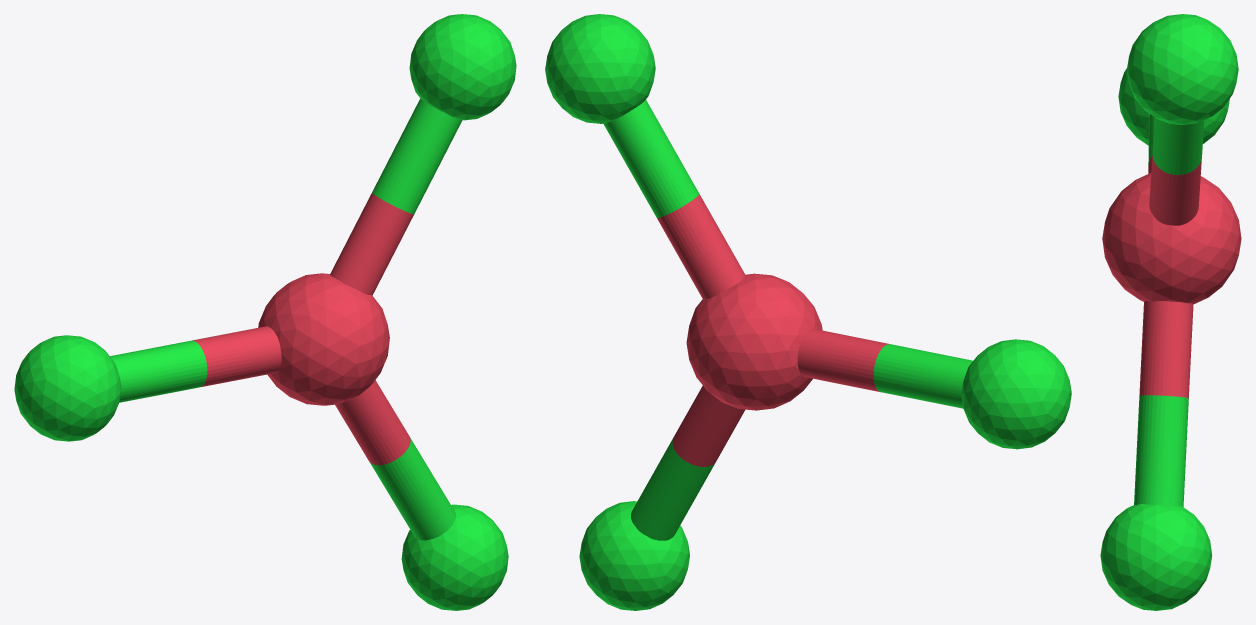
Rendered from BrF3.glb.
The picture shows the model from 3 angles, left to right: view 1: azimuth 30°, elevation 25°; view 2: azimuth 150°, elevation 25°; view 3: azimuth 270°, elevation 25°; orthographic projection. The views are drawn at different scales.
Parts seen in each view (by area): view 1: Shape_IndexedFaceSet, Shape_IndexedFaceSet.002, Shape_IndexedFaceSet.003, Shape_IndexedFaceSet.001, Shape_IndexedFaceSet.006, Shape_IndexedFaceSet.004, Shape_IndexedFaceSet.026, Shape_IndexedFaceSet.009, Shape_IndexedFaceSet.008, Shape_IndexedFaceSet.025; view 2: Shape_IndexedFaceSet, Shape_IndexedFaceSet.002, Shape_IndexedFaceSet.003, Shape_IndexedFaceSet.001, Shape_IndexedFaceSet.006, Shape_IndexedFaceSet.004, Shape_IndexedFaceSet.009, Shape_IndexedFaceSet.026, Shape_IndexedFaceSet.008, Shape_IndexedFaceSet.025; view 3: Shape_IndexedFaceSet, Shape_IndexedFaceSet.003, Shape_IndexedFaceSet.001, Shape_IndexedFaceSet.026, Shape_IndexedFaceSet.025, Shape_IndexedFaceSet.004, Shape_IndexedFaceSet.006, Shape_IndexedFaceSet.002, Shape_IndexedFaceSet.009.
Boxes of the visible parts, x1=… form: Shape_IndexedFaceSet: x1=258, y1=273, x2=389, y2=405; Shape_IndexedFaceSet.002: x1=14, y1=335, x2=121, y2=441; Shape_IndexedFaceSet.003: x1=409, y1=14, x2=516, y2=120; Shape_IndexedFaceSet.001: x1=401, y1=504, x2=508, y2=610; Shape_IndexedFaceSet.006: x1=372, y1=98, x2=462, y2=214; Shape_IndexedFaceSet.004: x1=330, y1=193, x2=413, y2=295; Shape_IndexedFaceSet.026: x1=369, y1=438, x2=455, y2=540; Shape_IndexedFaceSet.009: x1=110, y1=340, x2=207, y2=402; Shape_IndexedFaceSet.008: x1=192, y1=326, x2=281, y2=386; Shape_IndexedFaceSet.025: x1=335, y1=380, x2=410, y2=465; Shape_IndexedFaceSet: x1=686, y1=273, x2=822, y2=410; Shape_IndexedFaceSet.002: x1=961, y1=339, x2=1071, y2=449; Shape_IndexedFaceSet.003: x1=545, y1=14, x2=655, y2=123; Shape_IndexedFaceSet.001: x1=579, y1=501, x2=689, y2=610; Shape_IndexedFaceSet.006: x1=603, y1=100, x2=699, y2=217; Shape_IndexedFaceSet.004: x1=657, y1=194, x2=745, y2=299; Shape_IndexedFaceSet.009: x1=873, y1=344, x2=972, y2=408; Shape_IndexedFaceSet.026: x1=631, y1=439, x2=715, y2=540; Shape_IndexedFaceSet.008: x1=797, y1=329, x2=888, y2=392; Shape_IndexedFaceSet.025: x1=672, y1=385, x2=744, y2=466; Shape_IndexedFaceSet: x1=1102, y1=173, x2=1241, y2=304; Shape_IndexedFaceSet.003: x1=1127, y1=14, x2=1238, y2=124; Shape_IndexedFaceSet.001: x1=1100, y1=504, x2=1212, y2=610; Shape_IndexedFaceSet.026: x1=1134, y1=395, x2=1188, y2=506; Shape_IndexedFaceSet.025: x1=1139, y1=301, x2=1193, y2=397; Shape_IndexedFaceSet.004: x1=1149, y1=156, x2=1201, y2=225; Shape_IndexedFaceSet.006: x1=1152, y1=117, x2=1204, y2=174; Shape_IndexedFaceSet.002: x1=1118, y1=68, x2=1229, y2=145; Shape_IndexedFaceSet.009: x1=1148, y1=114, x2=1154, y2=164.
Bounding box in the file's own units: 0.407 × 0.4532 × 0.097.
